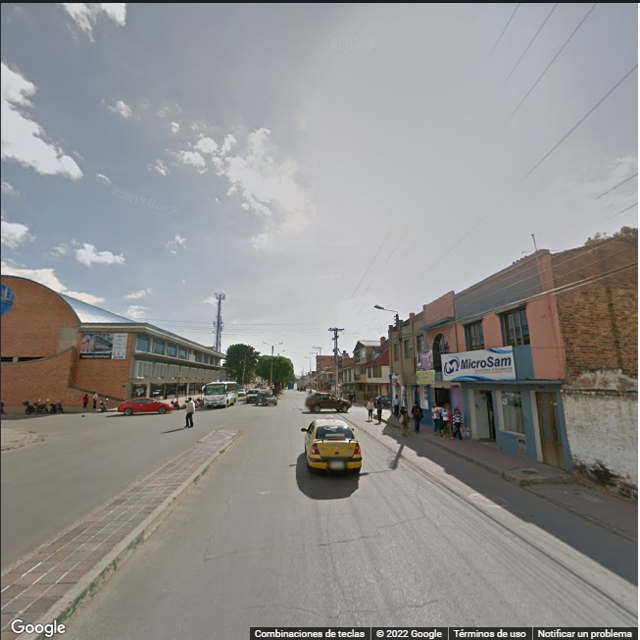D00: (327, 543, 348, 605)
D10: (355, 598, 444, 618), (236, 602, 350, 615), (330, 532, 382, 545), (383, 518, 437, 528)
